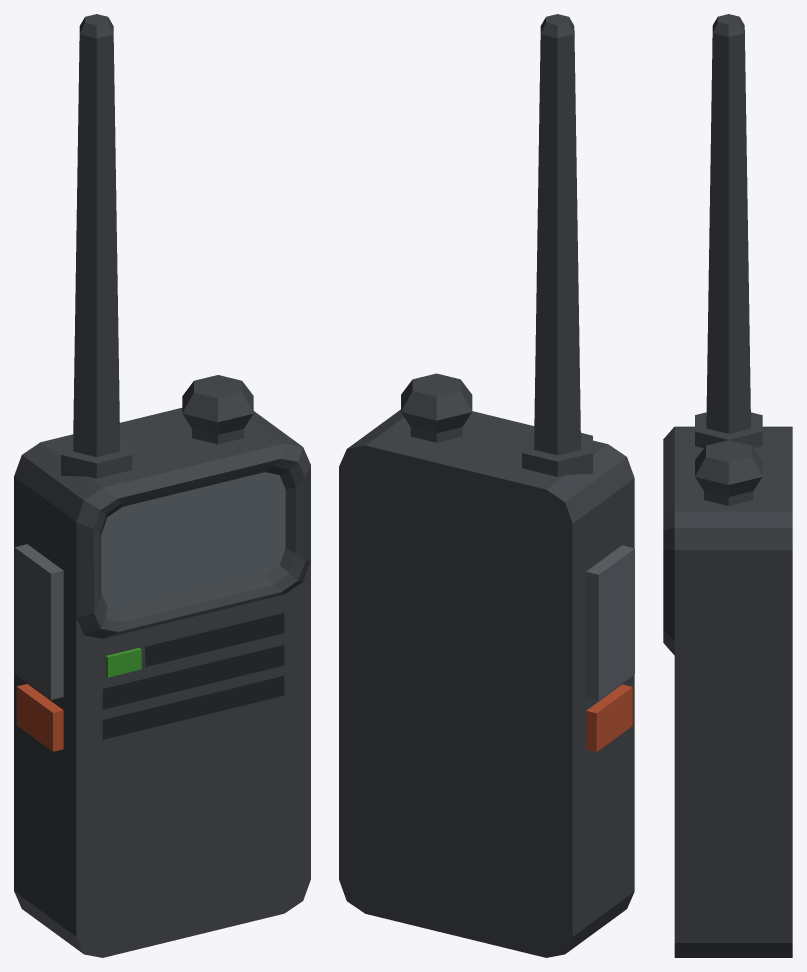
Rendered from SM_Prop_WalkieTalkie_01.fbx.
3 renders of one model, left to right at view 1: azimuth 30°, elevation 25°; view 2: azimuth 150°, elevation 25°; view 3: azimuth 270°, elevation 25°, orthographic. The views are drawn at different scales.
Parts seen in each view (by area): view 1: SM_Prop_WalkieTalkie_01; view 2: SM_Prop_WalkieTalkie_01; view 3: SM_Prop_WalkieTalkie_01.
Boxes of the visible parts, box(x1,y1,x2,y2) form: SM_Prop_WalkieTalkie_01: box(14, 14, 310, 957); SM_Prop_WalkieTalkie_01: box(339, 14, 634, 957); SM_Prop_WalkieTalkie_01: box(663, 14, 792, 957).
Bounding box in the file's own units: 11.04 × 38.87 × 5.26.
